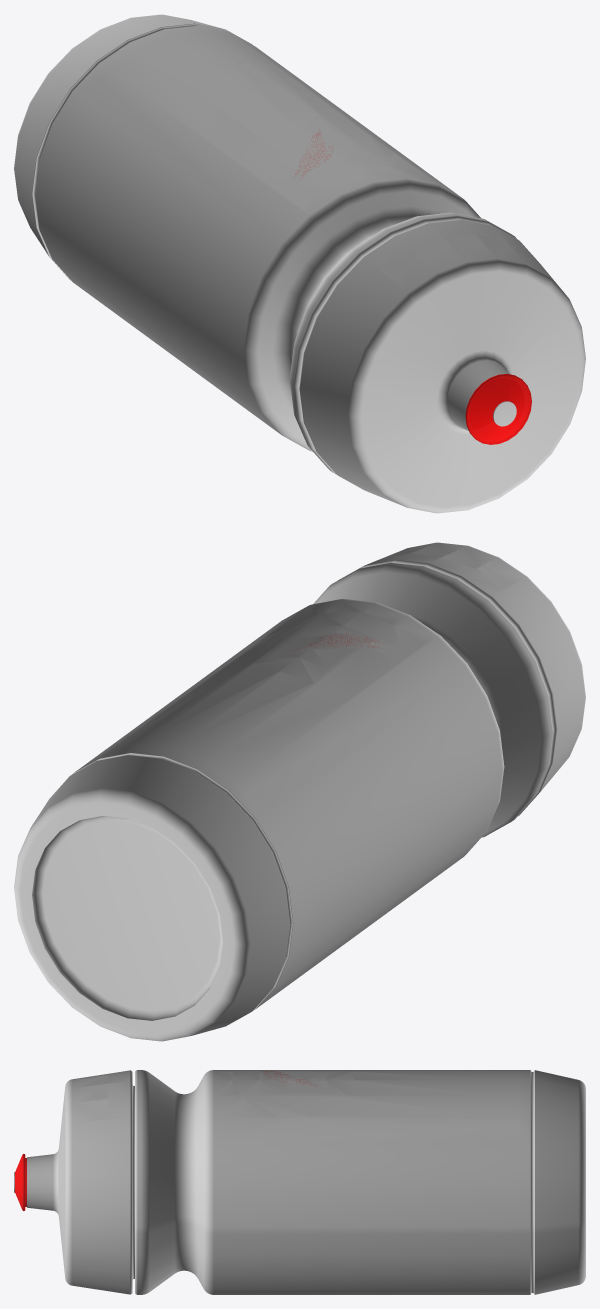
Rendered from model_align.obj.
3 views of the same model, one above another, from view 1: azimuth 30°, elevation 25°; view 2: azimuth 150°, elevation 25°; view 3: azimuth 270°, elevation 25° (orthographic). The views are drawn at different scales.
Visible parts, largest first — view 1: mesh3_mesh3-geometry, mesh1_mesh1-geometry; view 2: mesh3_mesh3-geometry; view 3: mesh3_mesh3-geometry, mesh1_mesh1-geometry.
Boxes of the visible parts, x1,y1,x2,y2 form: mesh3_mesh3-geometry: (14, 14, 585, 513); mesh1_mesh1-geometry: (465, 374, 531, 444); mesh3_mesh3-geometry: (14, 542, 585, 1041); mesh3_mesh3-geometry: (27, 1070, 585, 1294); mesh1_mesh1-geometry: (15, 1154, 25, 1210).
Size of the model in its own units: 0.094 by 0.094 by 0.2382.
